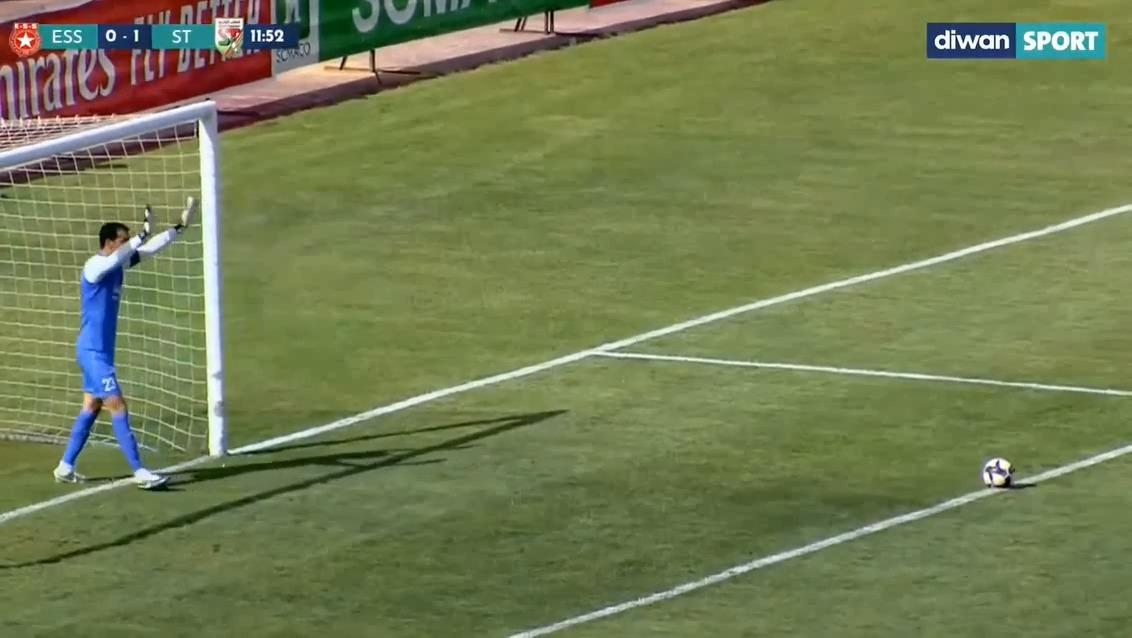ball: (964, 442, 1033, 499)
goalkeeper: (34, 193, 207, 513)
